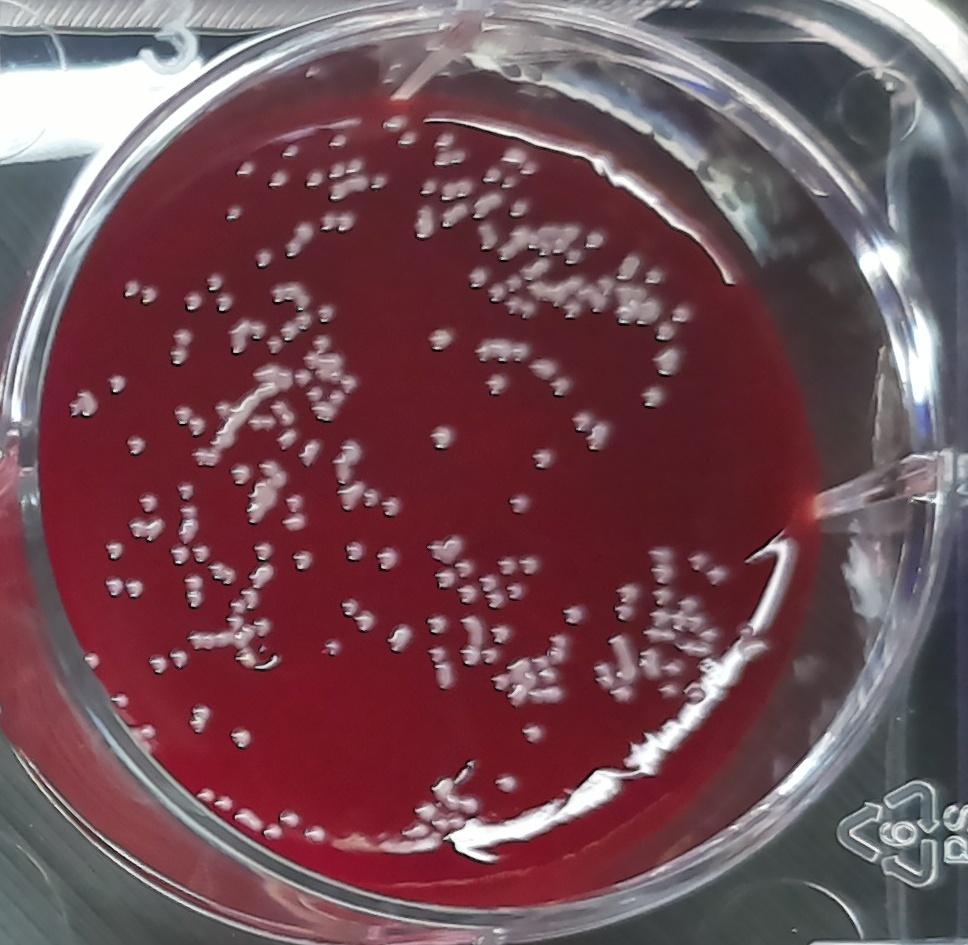staphylo-: (568, 406, 612, 457), (615, 283, 662, 327), (456, 610, 486, 669), (474, 335, 532, 364), (425, 532, 462, 569), (647, 343, 685, 379), (383, 617, 415, 659), (523, 440, 559, 473), (425, 325, 461, 358), (497, 224, 529, 261), (65, 387, 99, 421), (412, 202, 440, 242), (425, 419, 456, 452), (177, 502, 199, 548), (638, 383, 669, 414), (670, 296, 698, 328), (528, 354, 558, 381), (486, 372, 513, 402), (505, 489, 533, 517), (615, 252, 642, 281), (226, 462, 254, 489), (443, 201, 469, 228), (582, 226, 608, 252), (466, 264, 491, 291), (549, 372, 574, 399), (476, 223, 497, 254), (337, 594, 360, 621), (201, 268, 225, 293), (644, 263, 667, 287), (507, 195, 530, 219), (423, 612, 445, 637), (428, 644, 448, 665), (456, 693, 456, 693)
